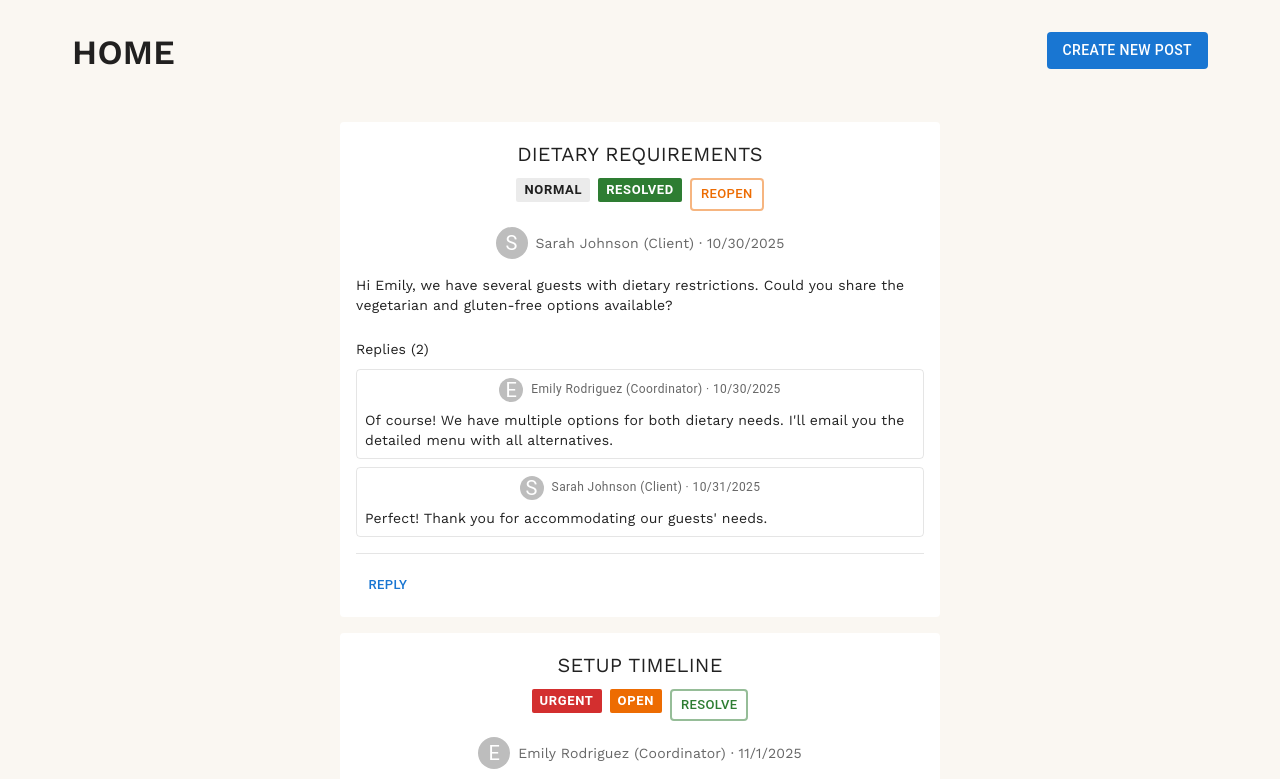
Test: Discussions Page › Create Post Functionality › successfully creates a new post with title and content
Click the button "Create New Post". click: {"x": 1127, "y": 50}
box: [1046, 32, 1208, 68]
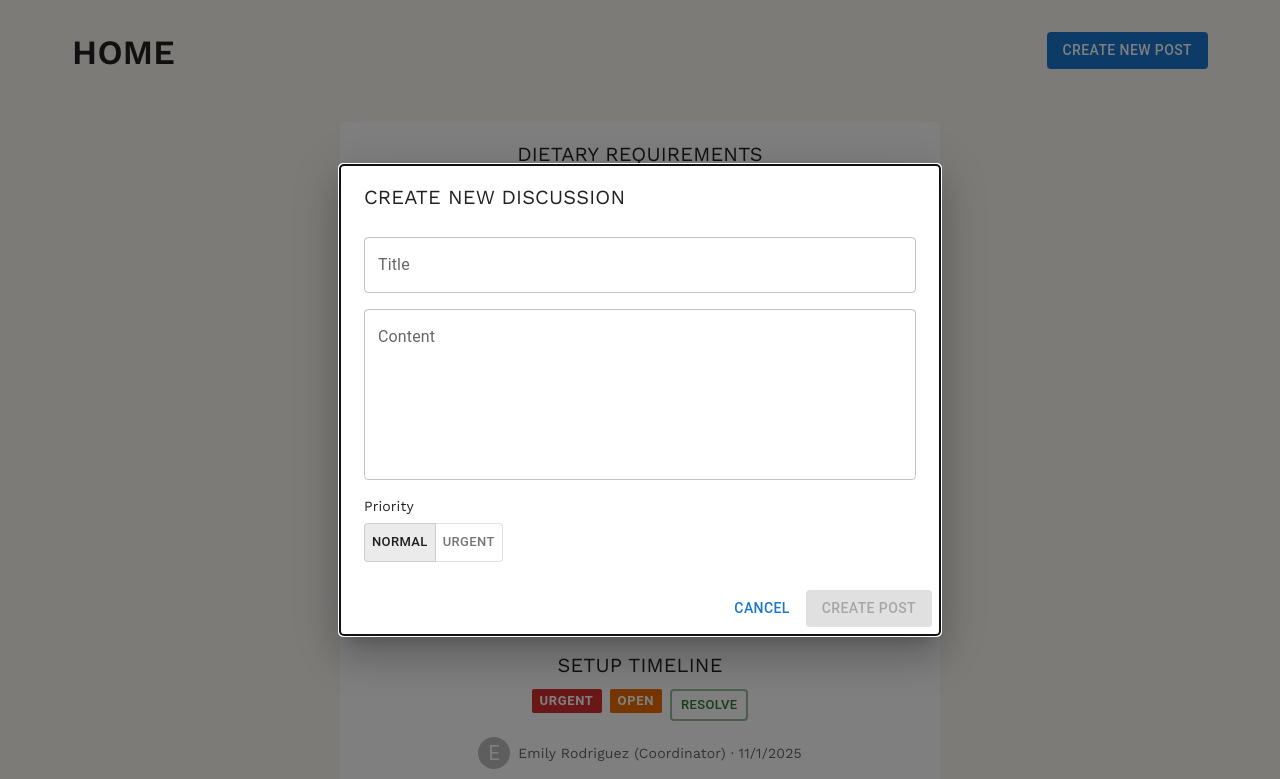
Type "New Test Discussion" into the field labelled "Title". click: {"x": 640, "y": 265}
box: [364, 237, 916, 293]
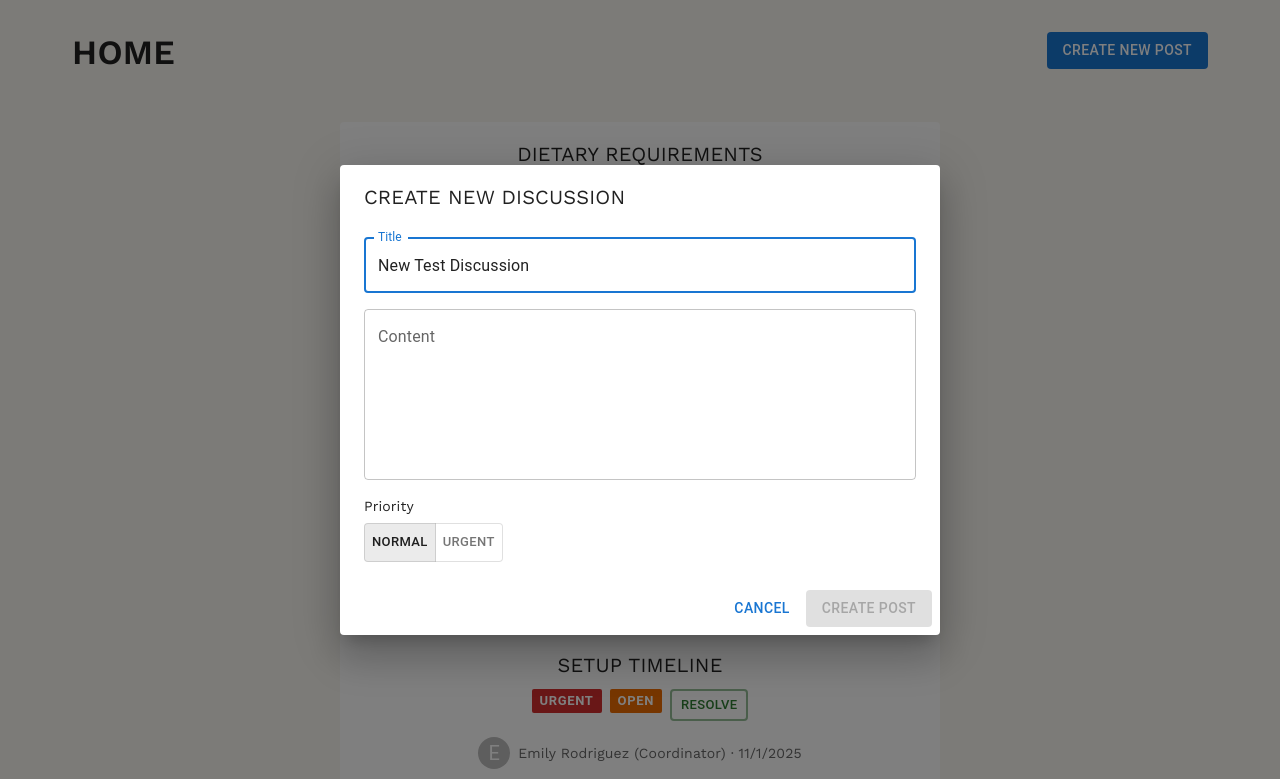
Type "This is the content of my new discussion post" into the text box labelled "Content". click: {"x": 640, "y": 395}
box: [378, 326, 902, 464]
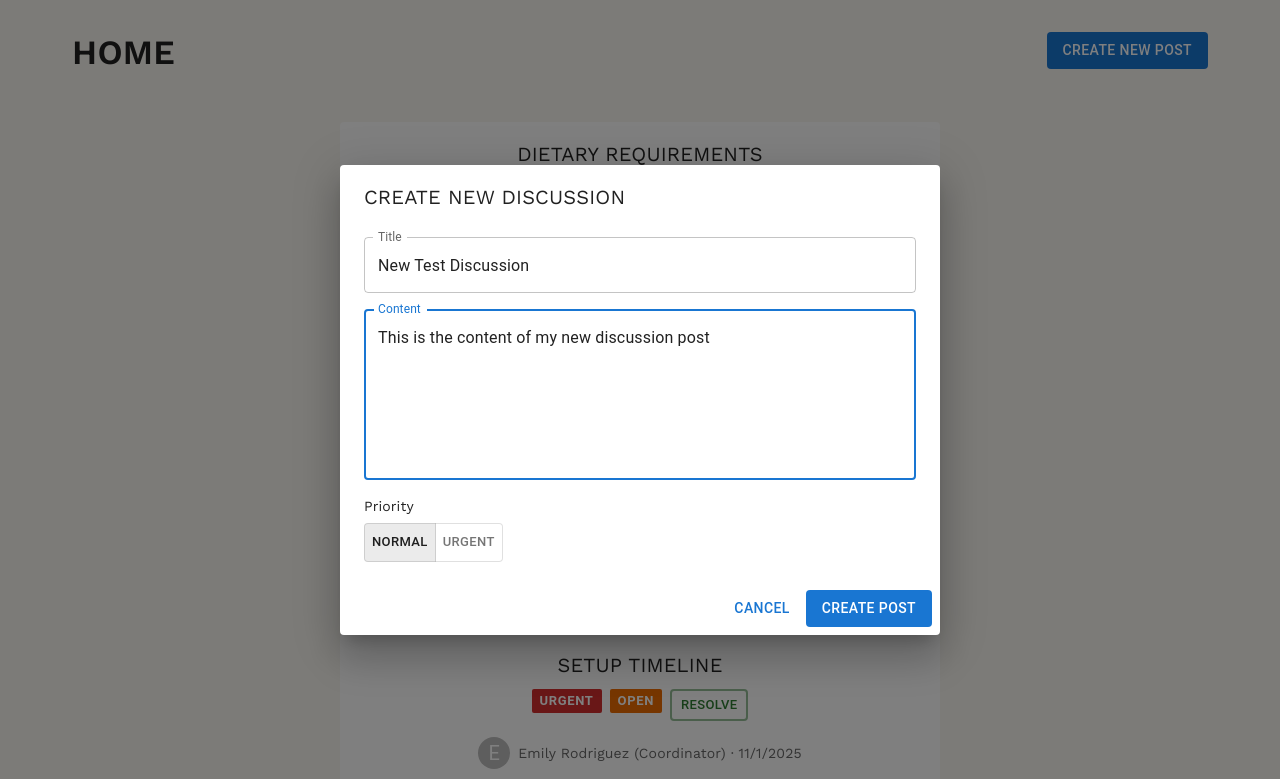
Expected: the button "Create Post" is enabled
Click the button "Create Post". click: {"x": 869, "y": 608}
box: [806, 590, 932, 626]
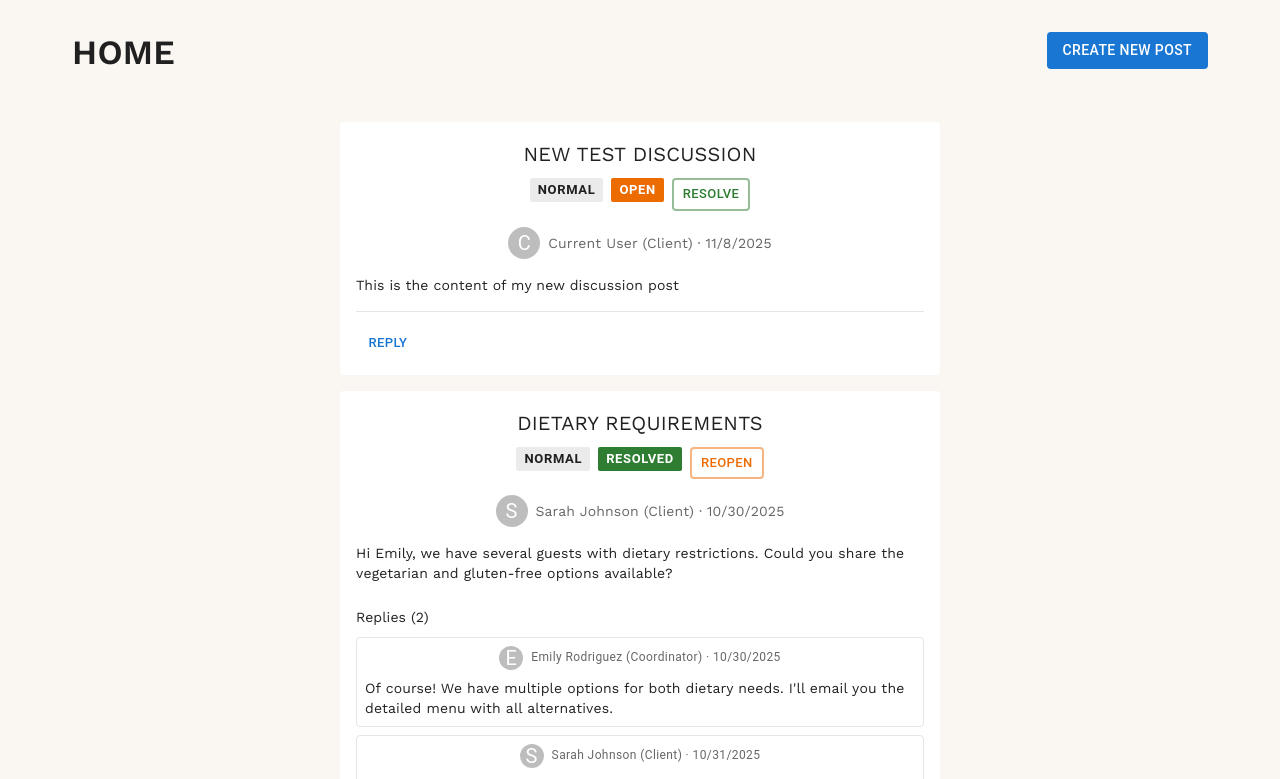
Expected: the heading "New Test Discussion" is shown, [524, 138, 756, 170]
Expected: the text "This is the content of my new discussion post" is shown, [356, 277, 679, 293]
